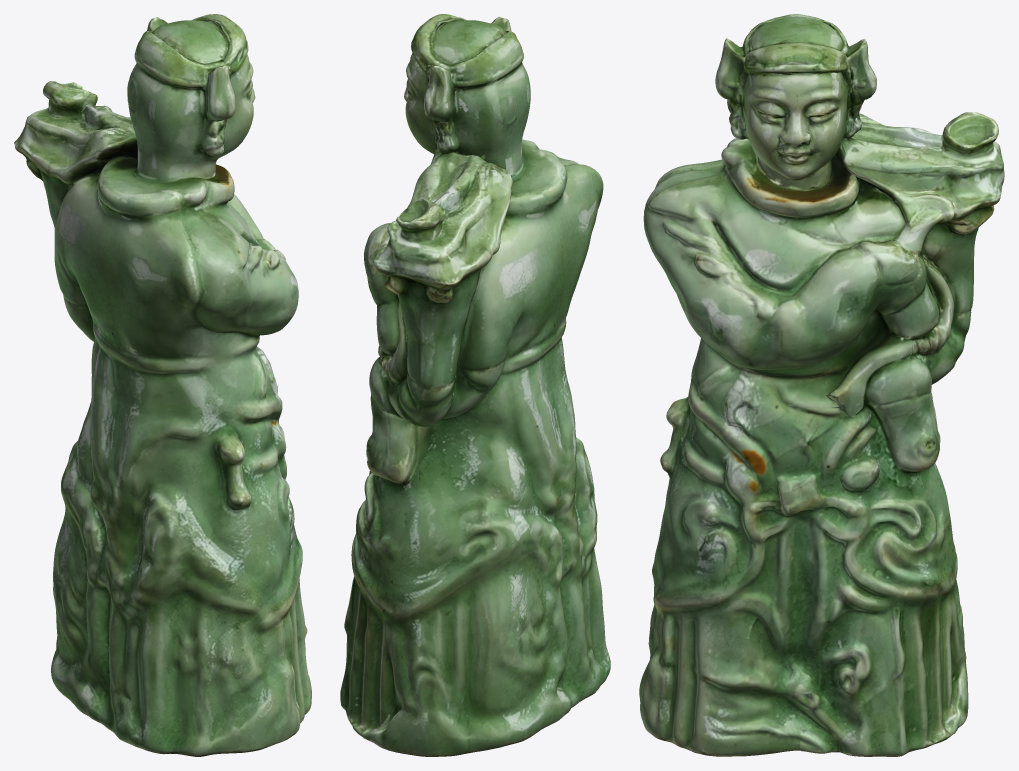
File: longquan-figure-web-mobile.glb
The picture shows the model from 3 angles, left to right: view 1: azimuth 30°, elevation 25°; view 2: azimuth 150°, elevation 25°; view 3: azimuth 270°, elevation 25°; orthographic projection. The views are drawn at different scales.
Visible parts, largest first — view 1: tripo_node_10291925-597c-4ab6-91cc-984cd73bce15; view 2: tripo_node_10291925-597c-4ab6-91cc-984cd73bce15; view 3: tripo_node_10291925-597c-4ab6-91cc-984cd73bce15.
Part boxes in pixels (left/top/right/bottom): tripo_node_10291925-597c-4ab6-91cc-984cd73bce15: left=14, top=14, right=311, bottom=756; tripo_node_10291925-597c-4ab6-91cc-984cd73bce15: left=340, top=14, right=610, bottom=756; tripo_node_10291925-597c-4ab6-91cc-984cd73bce15: left=639, top=14, right=1004, bottom=756.
Size of the model in its own units: 0.2875 by 0.9794 by 0.4645.
Materials: 1 (1 with a texture image).
